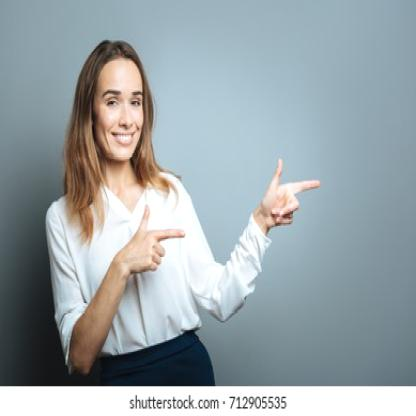Left: (124, 197, 190, 290), (257, 154, 329, 234)
